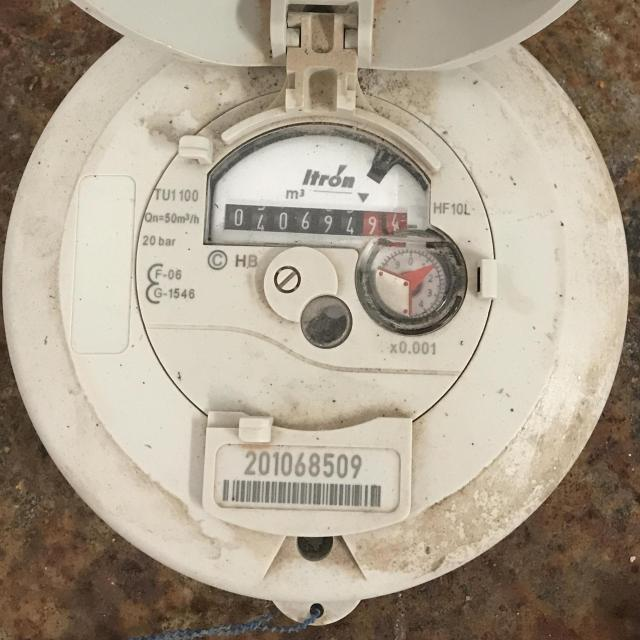gaz_meter: (3, 0, 628, 597)
indication: (219, 202, 409, 246)
